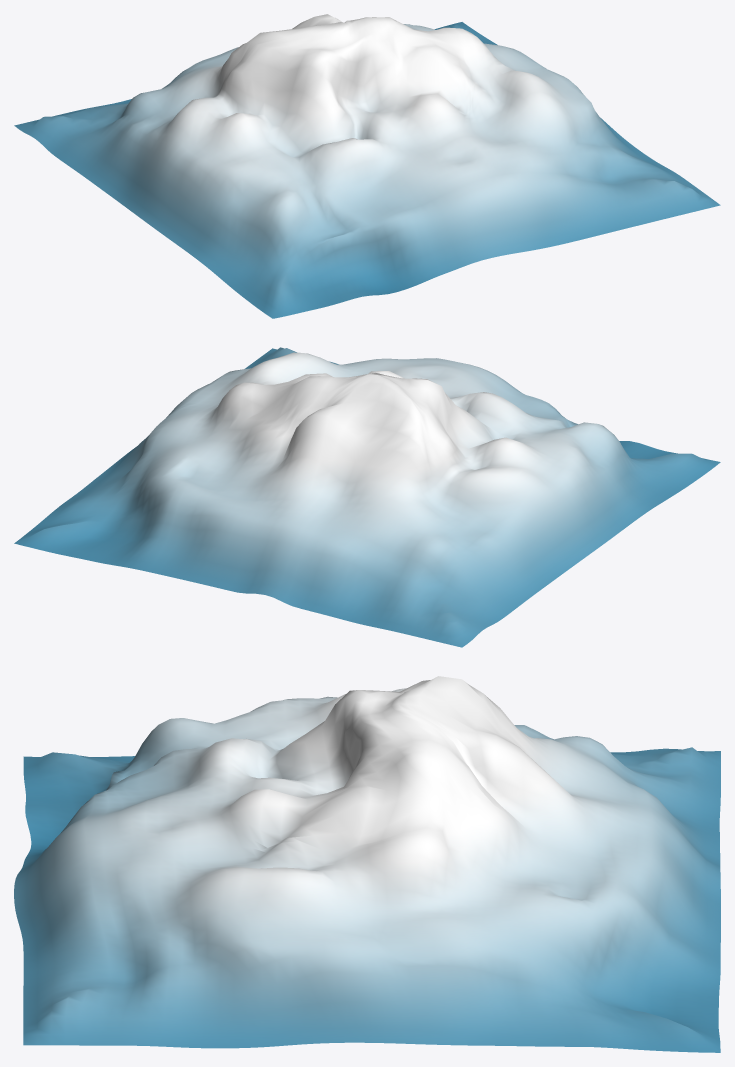
File: ice 1.fbx
The picture shows the model from 3 angles, top to bottom: view 1: azimuth 30°, elevation 25°; view 2: azimuth 150°, elevation 25°; view 3: azimuth 270°, elevation 25°; orthographic projection. The views are drawn at different scales.
Visible parts, largest first — view 1: pPlane3; view 2: pPlane3; view 3: pPlane3.
Part boxes in pixels (x1,y1,x2,y2): pPlane3: (14, 14, 720, 318); pPlane3: (14, 347, 720, 647); pPlane3: (14, 676, 720, 1052).
Bounding box in the file's own units: 14.78 × 4.58 × 14.88.
